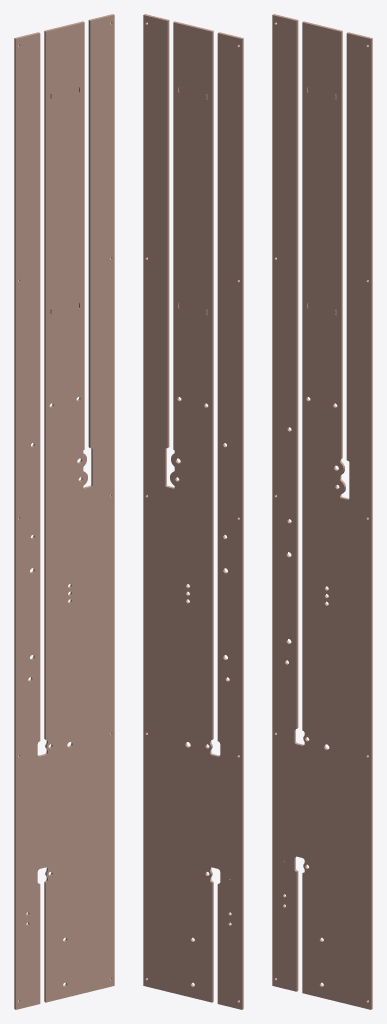
Rendered from sheet-10001073530-rev00-unfolded.glb.
3 renders of one model, left to right at view 1: azimuth 30°, elevation 25°; view 2: azimuth 150°, elevation 25°; view 3: azimuth 330°, elevation 25°, orthographic.
Visible parts, largest first — view 1: world; view 2: world; view 3: world.
Part boxes in pixels (box(x1,y1,x2,y2)): world: box(14, 14, 114, 1009); world: box(143, 14, 243, 1009); world: box(272, 14, 372, 1009).
Size of the model in its own units: 203 by 1903 by 5.
